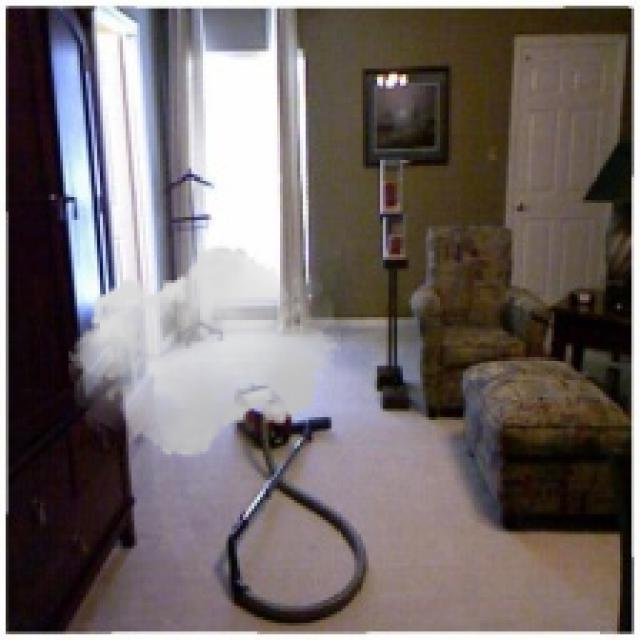Smoke: (68, 237, 340, 466)
